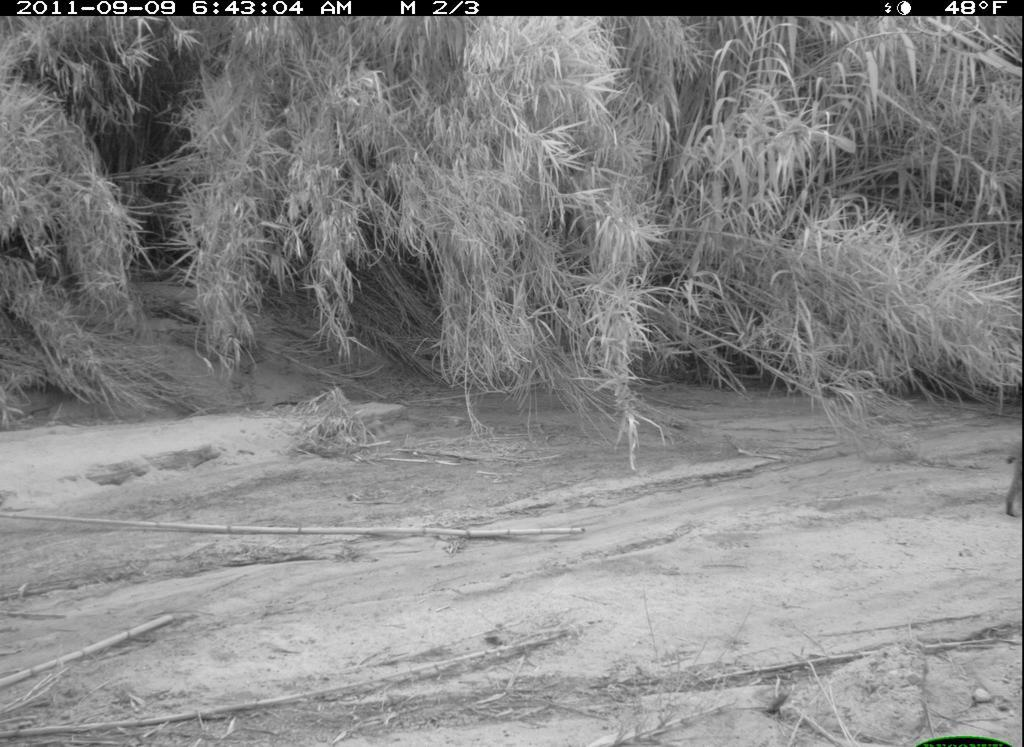bobcat: (1001, 432, 1022, 518)
